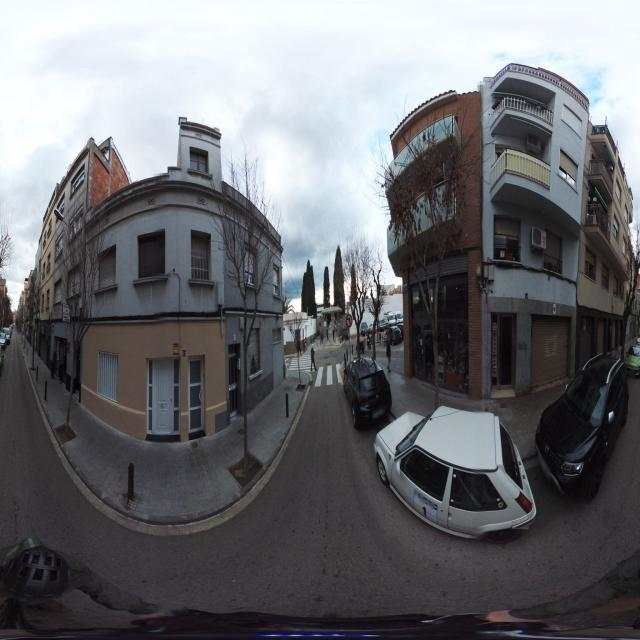forb_stopping: (333, 320, 336, 325), (319, 322, 321, 326)
